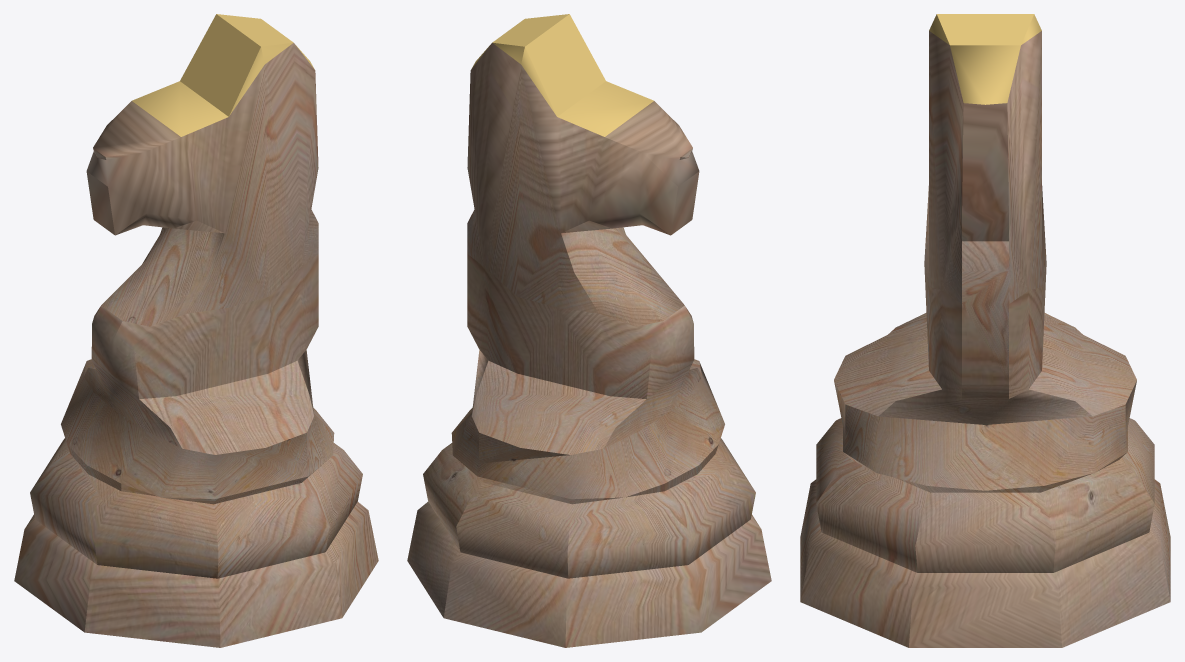
Rendered from gercek4_n_w.glb.
3 views of the same model, side by side, from view 1: azimuth 30°, elevation 25°; view 2: azimuth 150°, elevation 25°; view 3: azimuth 270°, elevation 25° (orthographic). The views are drawn at different scales.
Visible parts, largest first — view 1: n; view 2: n; view 3: n.
Part boxes in pixels (x1=…): n: x1=14, y1=14, x2=378, y2=647; n: x1=407, y1=14, x2=771, y2=647; n: x1=800, y1=14, x2=1170, y2=647.
Size of the model in its own units: 0.5225 by 0.9 by 0.5225.
Materials: 2 (1 with a texture image).
